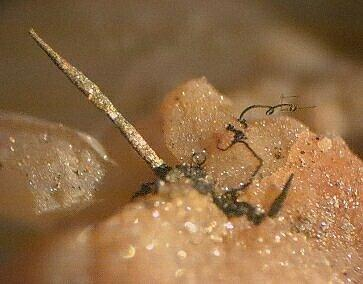pyrite: (29, 28, 165, 168), (32, 30, 165, 170), (159, 77, 311, 192)
